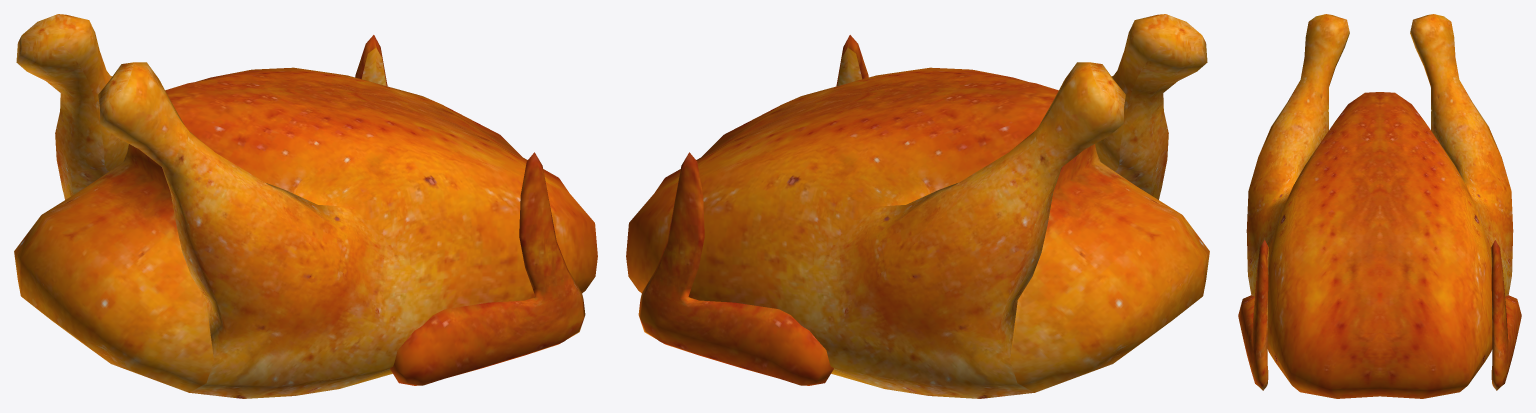
File: Roasted Chicken.glb
3 views of the same model, side by side, from view 1: azimuth 30°, elevation 25°; view 2: azimuth 150°, elevation 25°; view 3: azimuth 270°, elevation 25° (orthographic). The views are drawn at different scales.
Visible parts, largest first — view 1: roasted-chicken_obj_cleaner_materialmerger_gles; view 2: roasted-chicken_obj_cleaner_materialmerger_gles; view 3: roasted-chicken_obj_cleaner_materialmerger_gles.
Part boxes in pixels (box(x1,y1,x2,y2)): roasted-chicken_obj_cleaner_materialmerger_gles: box(14, 14, 597, 398); roasted-chicken_obj_cleaner_materialmerger_gles: box(626, 14, 1209, 398); roasted-chicken_obj_cleaner_materialmerger_gles: box(1238, 14, 1521, 398).
Bounding box in the file's own units: 0.7184 × 0.4654 × 0.4867.
1 material, 1 textured.
